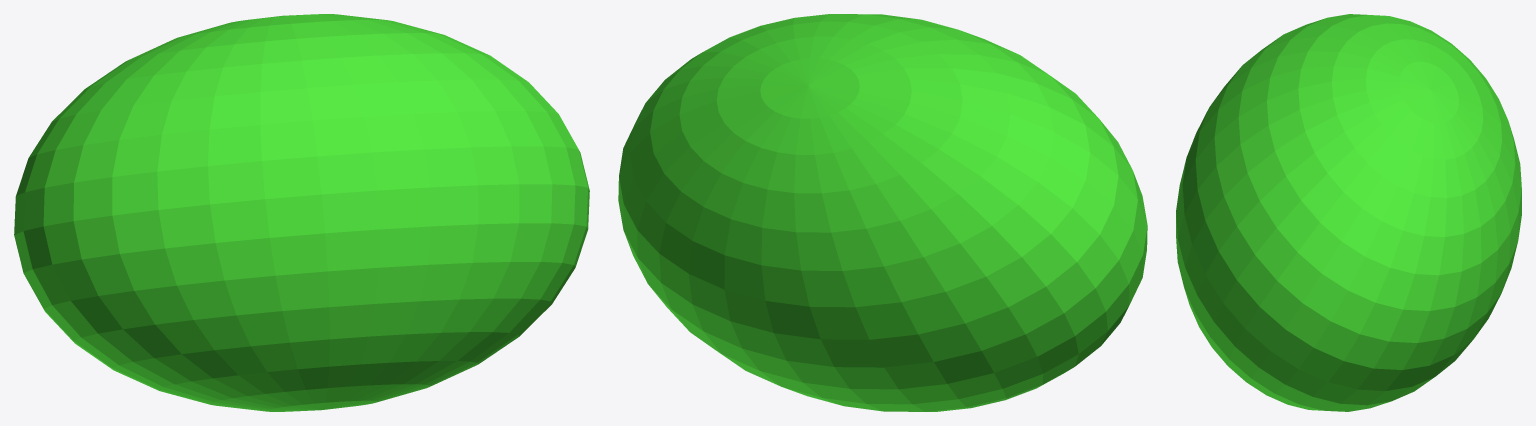
The model's file is WATERMELON.fbx.
3 renders of one model, left to right at view 1: azimuth 30°, elevation 25°; view 2: azimuth 150°, elevation 25°; view 3: azimuth 270°, elevation 25°, orthographic. The views are drawn at different scales.
Parts seen in each view (by area): view 1: Sphere.001; view 2: Sphere.001; view 3: Sphere.001.
Boxes of the visible parts, bbox=[...] form: Sphere.001: bbox=[14, 14, 589, 411]; Sphere.001: bbox=[618, 14, 1147, 411]; Sphere.001: bbox=[1176, 14, 1521, 411].
Bounding box in the file's own units: 5.63 × 3.77 × 3.77.
